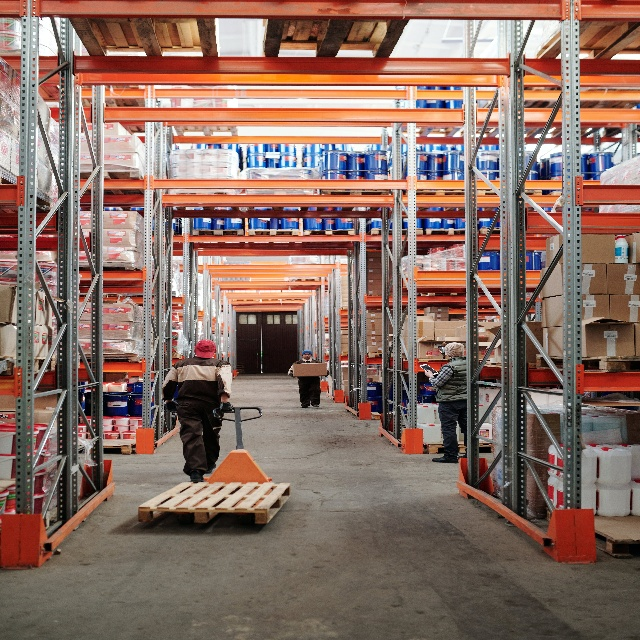Guantes: (165, 398, 179, 413), (219, 400, 234, 413), (324, 369, 329, 377), (290, 371, 295, 378)
Sin_guantes: (425, 368, 433, 379)
